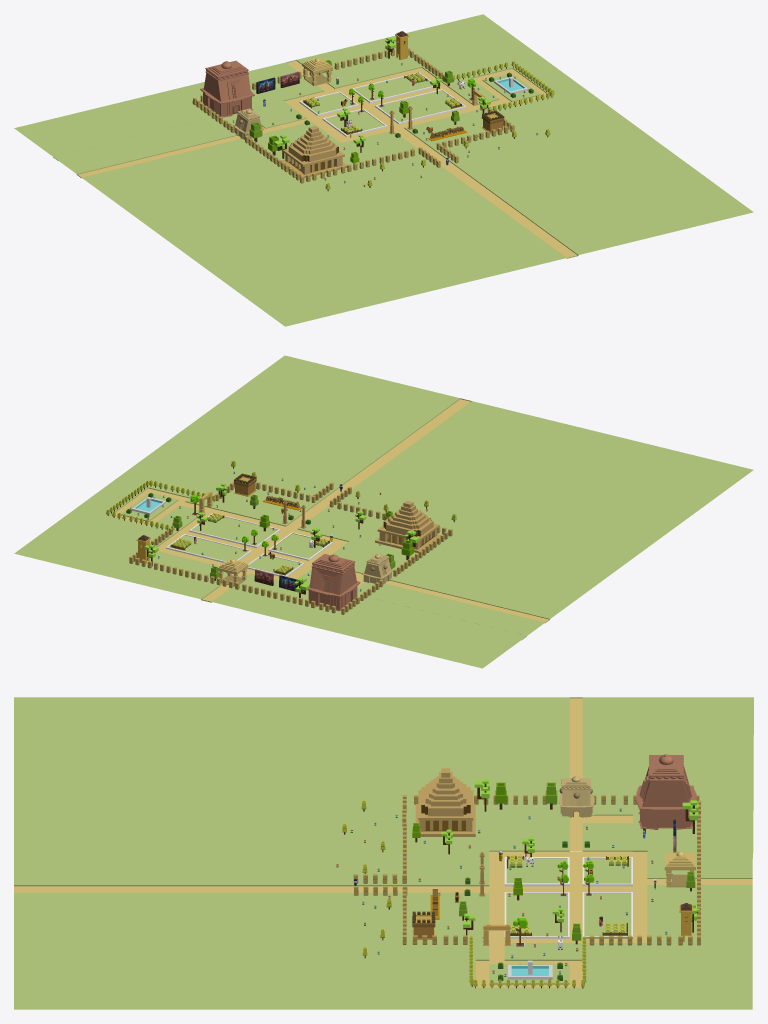
File: aaryavartaGameCollision.glb
3 renders of one model, top to bottom at view 1: azimuth 30°, elevation 25°; view 2: azimuth 150°, elevation 25°; view 3: azimuth 270°, elevation 25°, orthographic. The views are drawn at different scales.
Parts seen in each view (by area): view 1: ground, structuretemple, sourcesLink, structure, structuretemple.001; view 2: ground, structuretemple, sourcesLink, structuretemple.001, structure; view 3: ground, structuretemple, sourcesLink, structuretemple.001, structure, quizShrine, structurebunker.
Part boxes in pixels (box(x1,y1,x2,y2)): ground: box(14, 14, 753, 326); structuretemple: box(200, 60, 254, 117); sourcesLink: box(281, 126, 347, 178); structure: box(302, 58, 332, 85); structuretemple.001: box(233, 108, 263, 139); ground: box(14, 355, 753, 668); structuretemple: box(307, 554, 360, 611); sourcesLink: box(375, 500, 440, 553); structuretemple.001: box(362, 553, 393, 584); structure: box(217, 559, 248, 586); ground: box(14, 697, 753, 1009); structuretemple: box(636, 754, 696, 829); sourcesLink: box(415, 768, 475, 836); structuretemple.001: box(559, 776, 594, 817); structure: box(664, 851, 695, 887); quizShrine: box(508, 960, 552, 979); structurebunker: box(412, 911, 435, 939).
Size of what is drawn, in the model's own units: 3211 by 312 by 3218.
402 materials, 2 textured.
